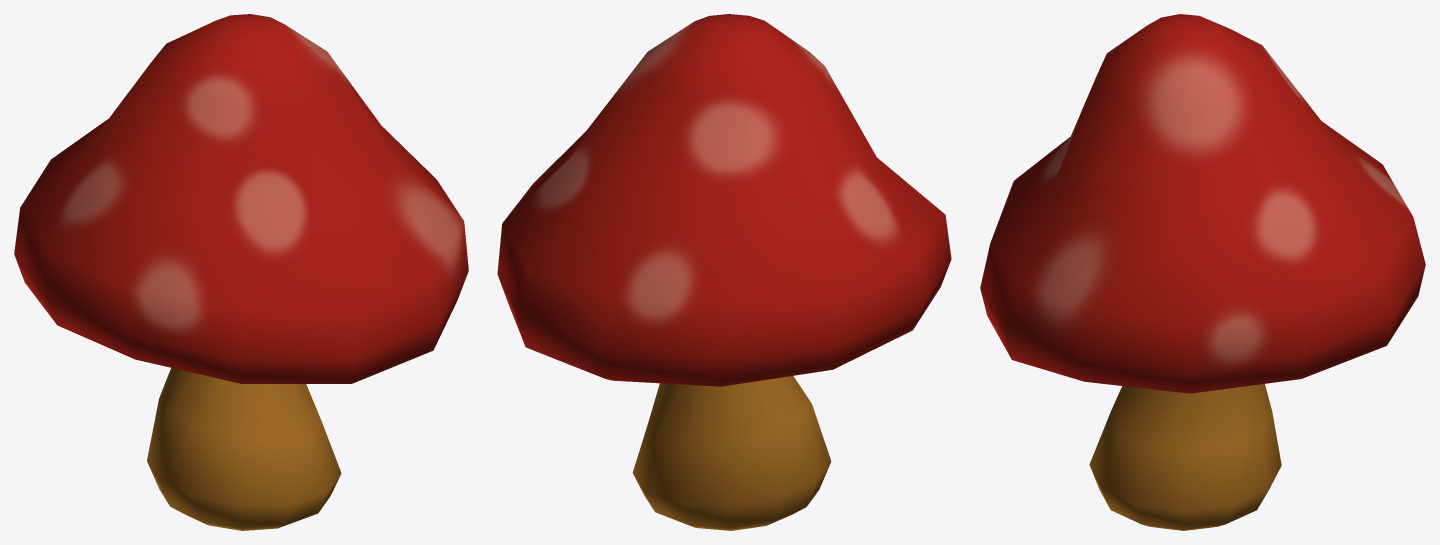
The model's file is Mushroom00.fbx.
The picture shows the model from 3 angles, left to right: view 1: azimuth 30°, elevation 25°; view 2: azimuth 150°, elevation 25°; view 3: azimuth 270°, elevation 25°; orthographic projection.
Visible parts, largest first — view 1: Mushroom00_LOD0; view 2: Mushroom00_LOD0; view 3: Mushroom00_LOD0.
Boxes of the visible parts, x1,y1,x2,y2 form: Mushroom00_LOD0: [14, 14, 468, 530]; Mushroom00_LOD0: [497, 14, 951, 530]; Mushroom00_LOD0: [980, 14, 1425, 530].
Size of what is drawn, in the model's own units: 79.69 by 93.99 by 79.72.
